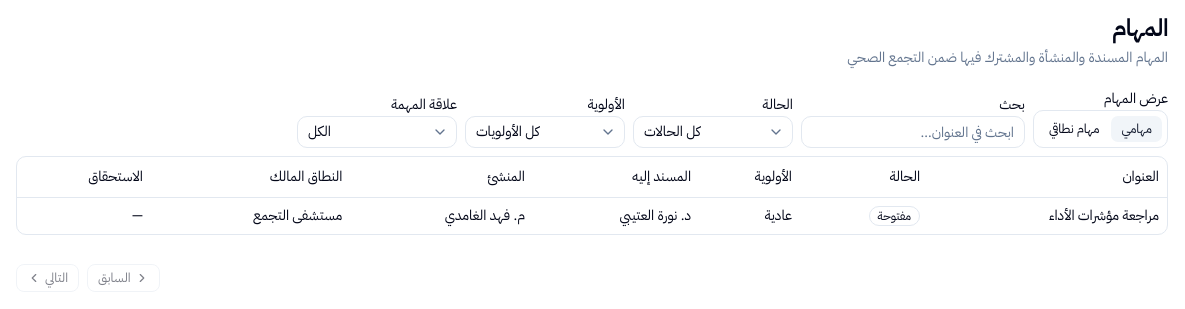
Test: TasksScreen › offers only task-authorized scopes instead of broader organization ancestry
What coordinates should you click on to do the following:
click the button "مهام نطاقي"
I would click on:
 (1074, 129)
Its box is [1038,115,1110,143].
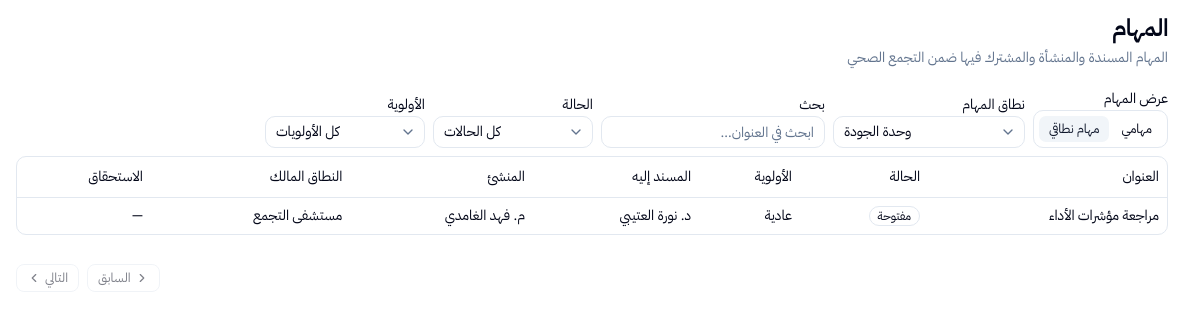
What coordinates should you click on to do the following:
click the dropdown named "نطاق المهام"
I would click on:
 (929, 132)
Its box is [833,116,1025,148].
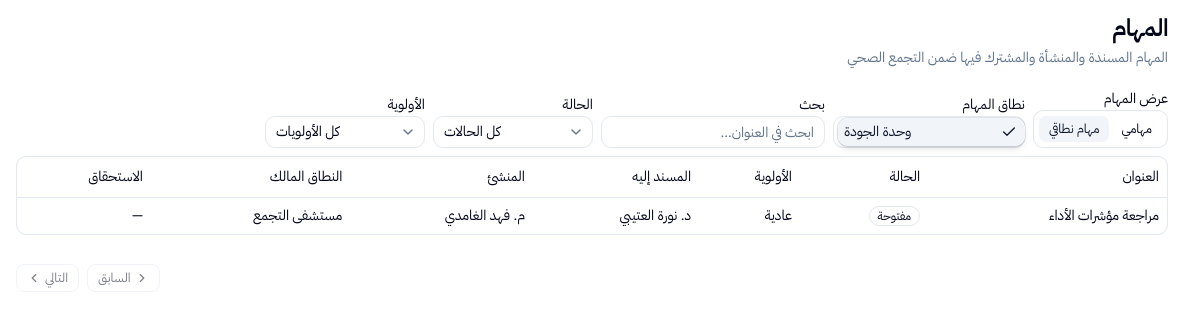
Expected: the option "وحدة الجودة" is shown, [838,118,1025,146]
